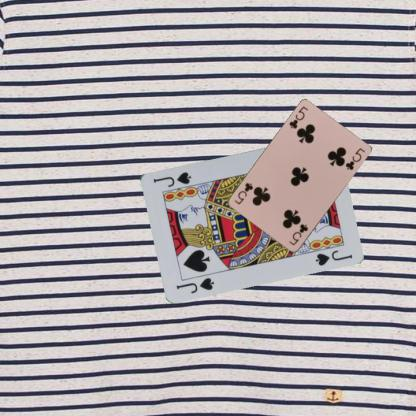5c: (286, 104, 310, 130), (286, 221, 309, 247)
Js: (174, 274, 216, 294)
